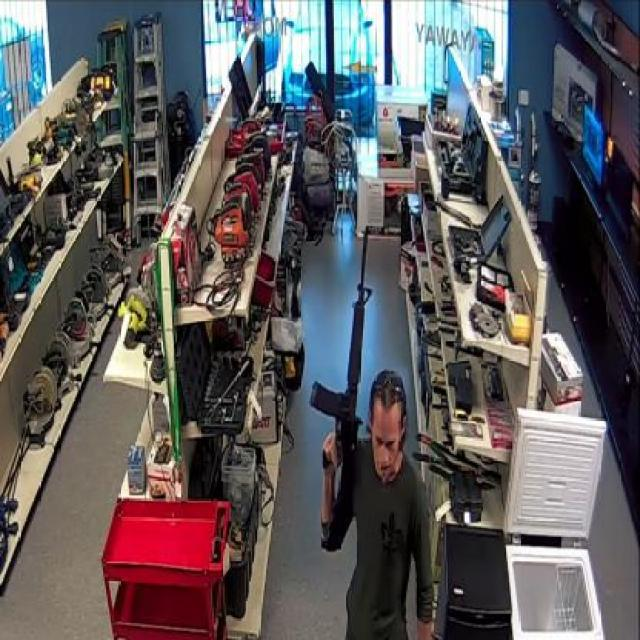weapon: (308, 212, 376, 554)
